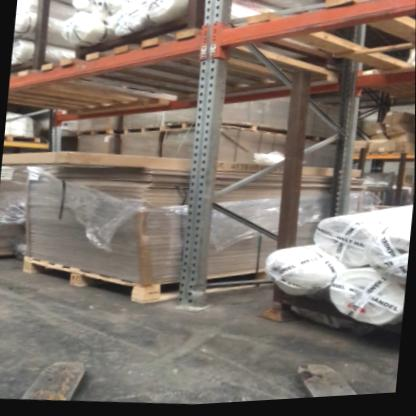vertical_damage: (170, 278, 216, 319)
